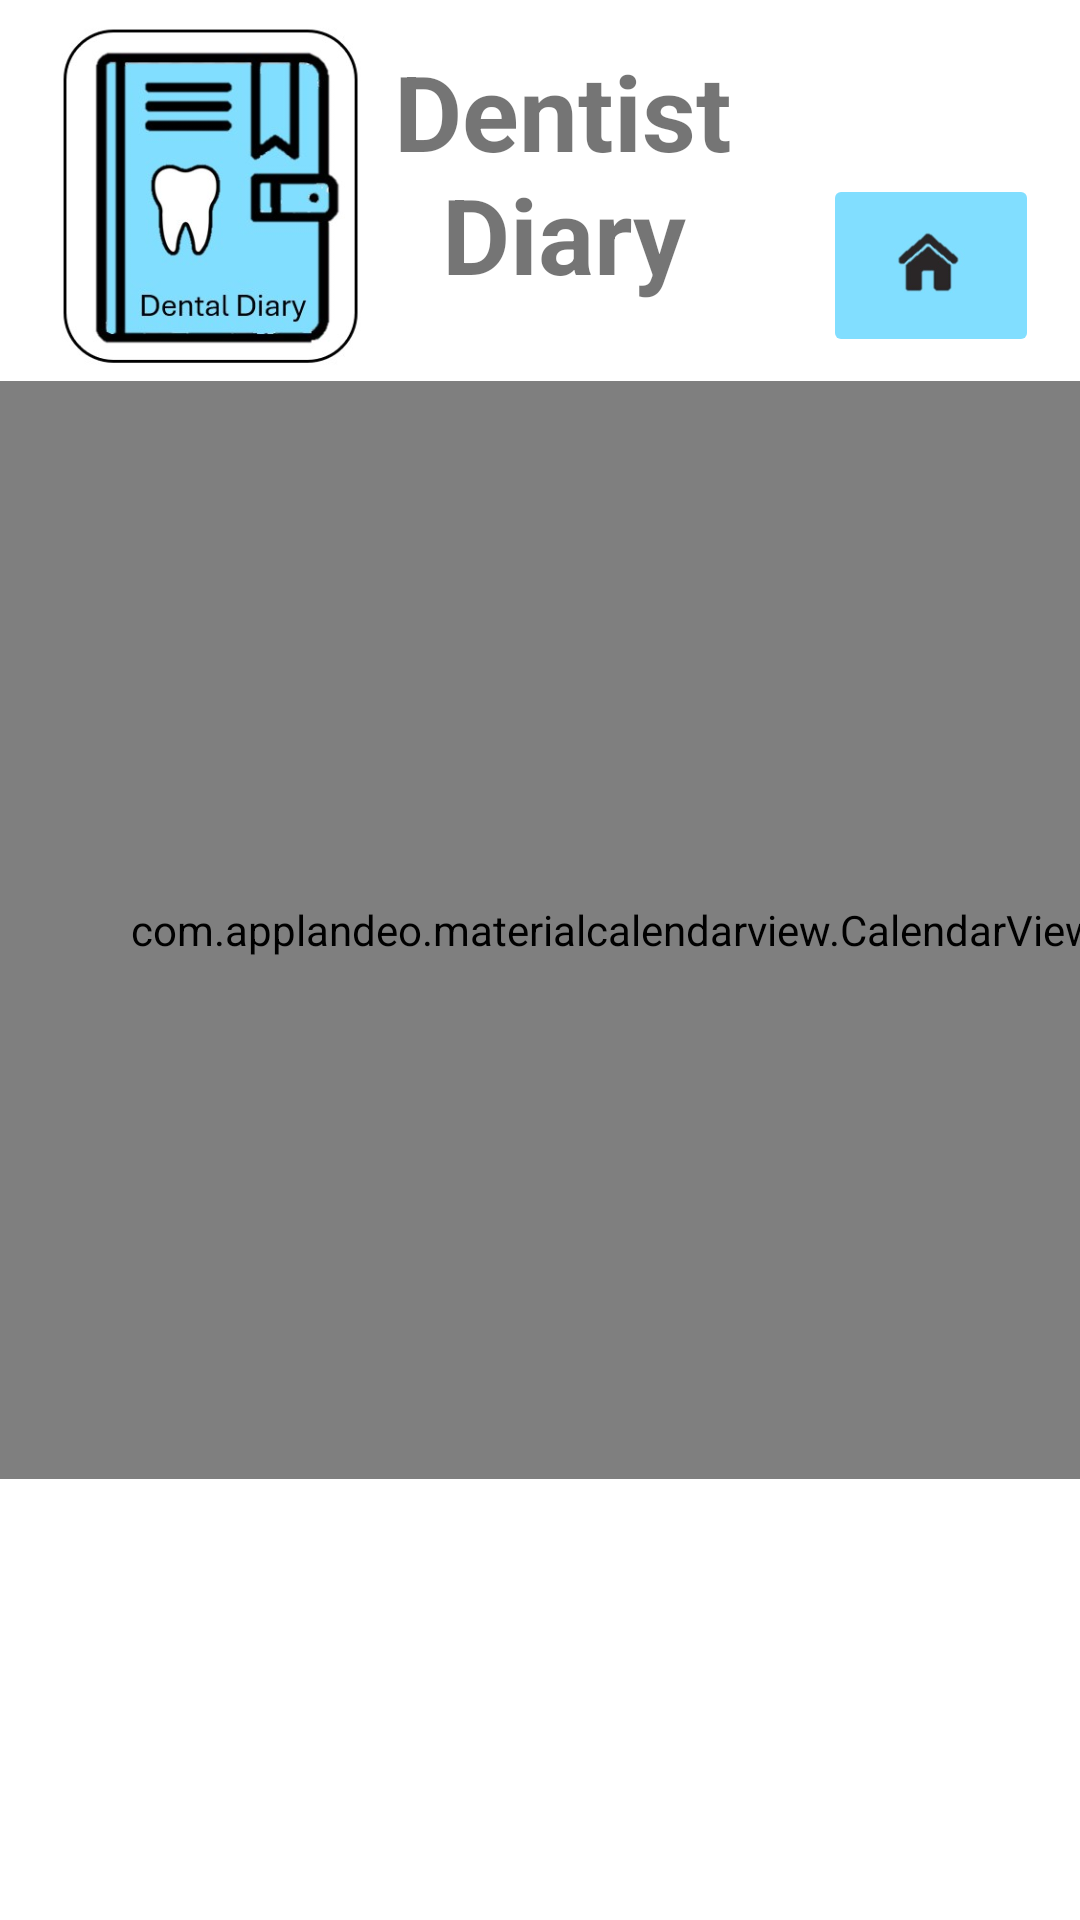

Icon bounding boxes for this 1080×1920 phone screenshot, format (x1, y1, x2, y2):
home: (835, 192, 1027, 339)
